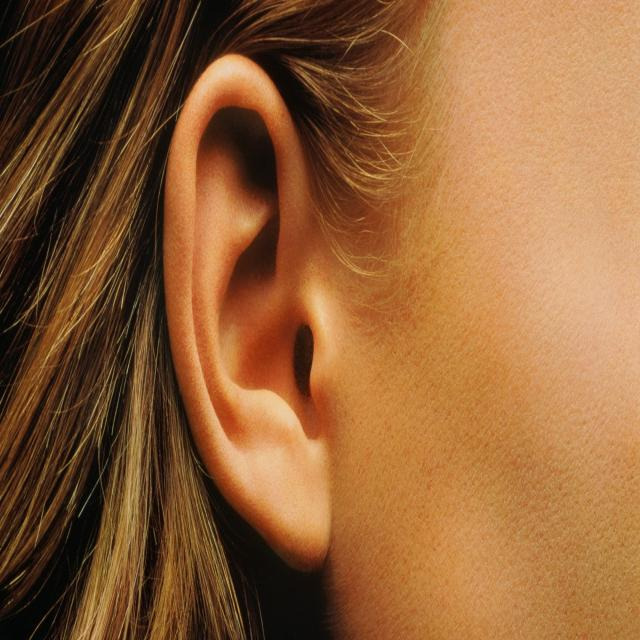earlobe: (161, 51, 331, 578)
